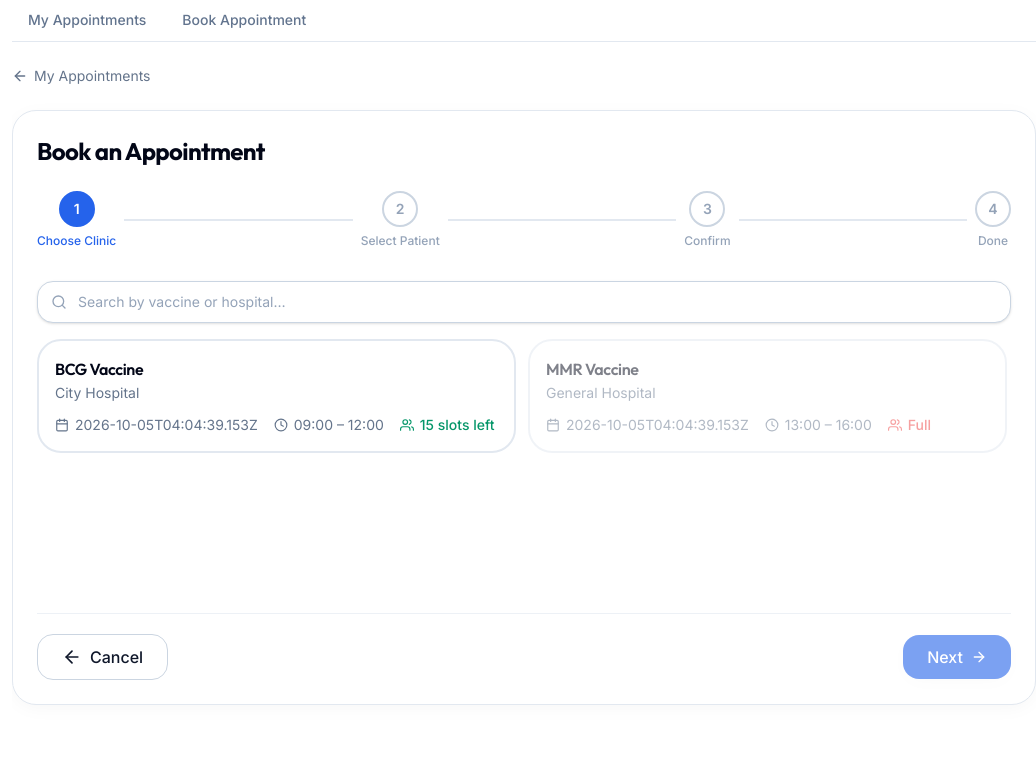
Test: BookAppointmentPage › Back button returns to previous step
Check: the heading "BCG Vaccine" is shown, box [55,359,143,379]
Click the button "BCG Vaccine".
click(99, 369)  # box [37,339,516,453]
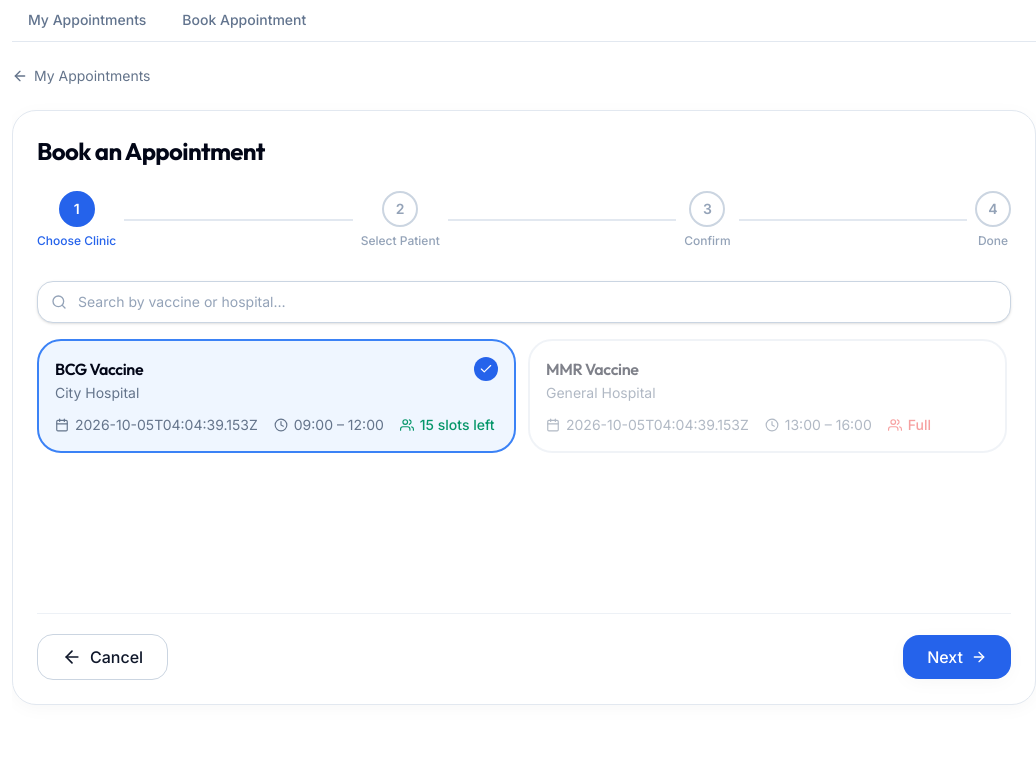
Click the button "Next".
click(957, 657)  # box [903,635,1011,679]
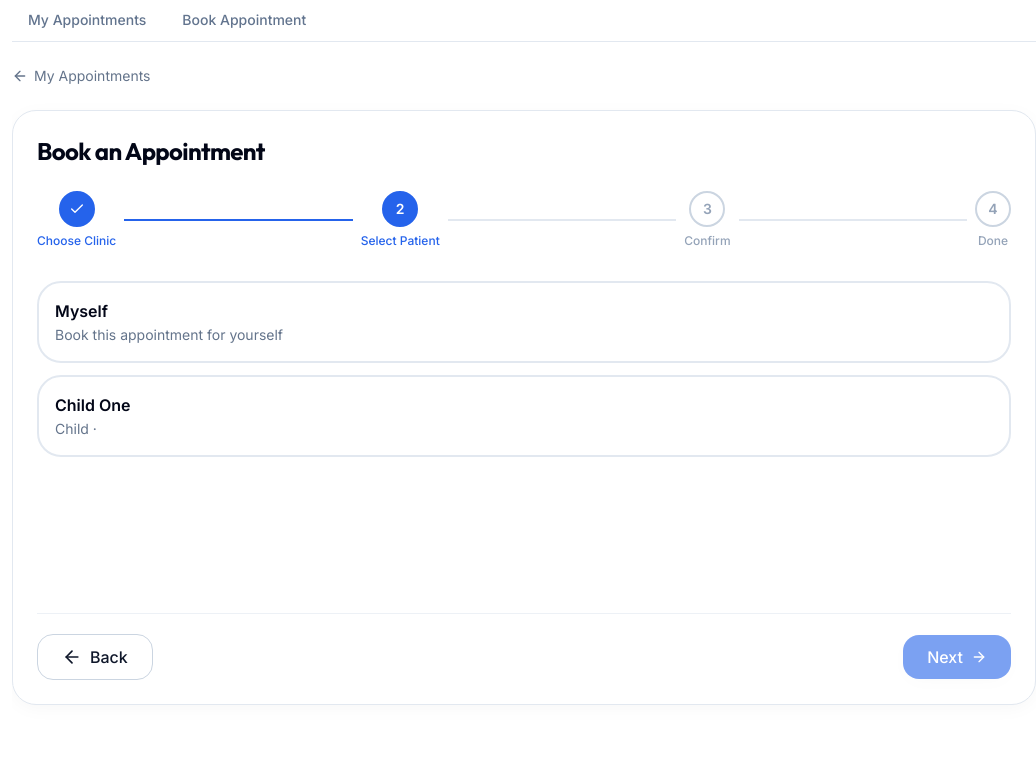
Check: the text "Myself" is shown, box [55,301,108,321]
Click the button "Back".
click(95, 657)  # box [37,634,153,680]
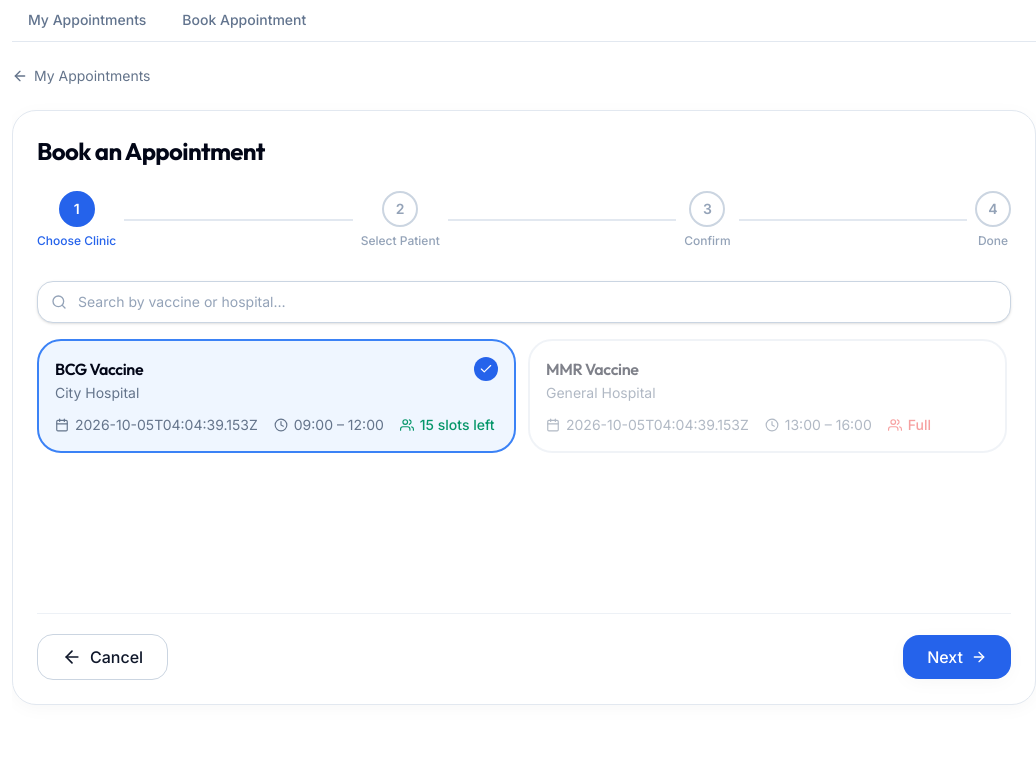
Check: the heading "BCG Vaccine" is shown, box [55,359,143,379]
